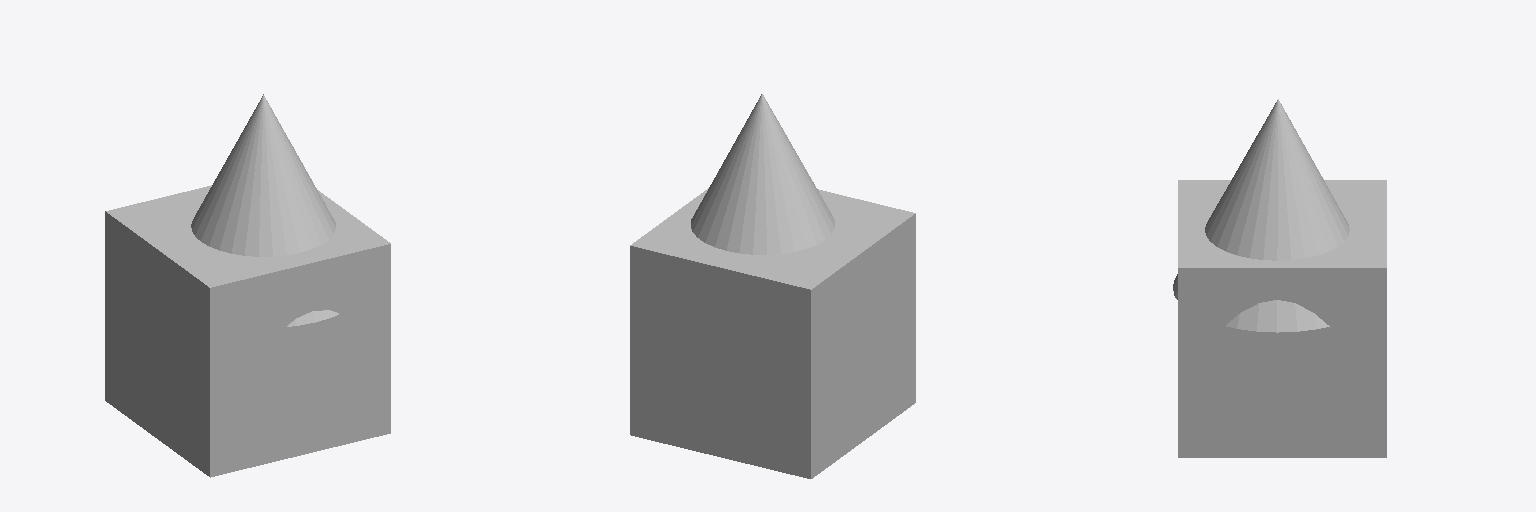
File: conio.obj
3 renders of one model, left to right at view 1: azimuth 30°, elevation 25°; view 2: azimuth 150°, elevation 25°; view 3: azimuth 270°, elevation 25°, orthographic.
Visible parts, largest first — view 1: Cube, Cone; view 2: Cube, Cone; view 3: Cube, Cone.
Boxes of the visible parts, box(x1,y1,x2,y2) form: Cube: box(105, 185, 390, 477); Cone: box(191, 94, 338, 326); Cube: box(630, 188, 915, 478); Cone: box(691, 94, 834, 254); Cube: box(1178, 180, 1386, 457); Cone: box(1173, 99, 1349, 332).
Bounding box in the file's own units: 2.14 × 3.39 × 2.05.